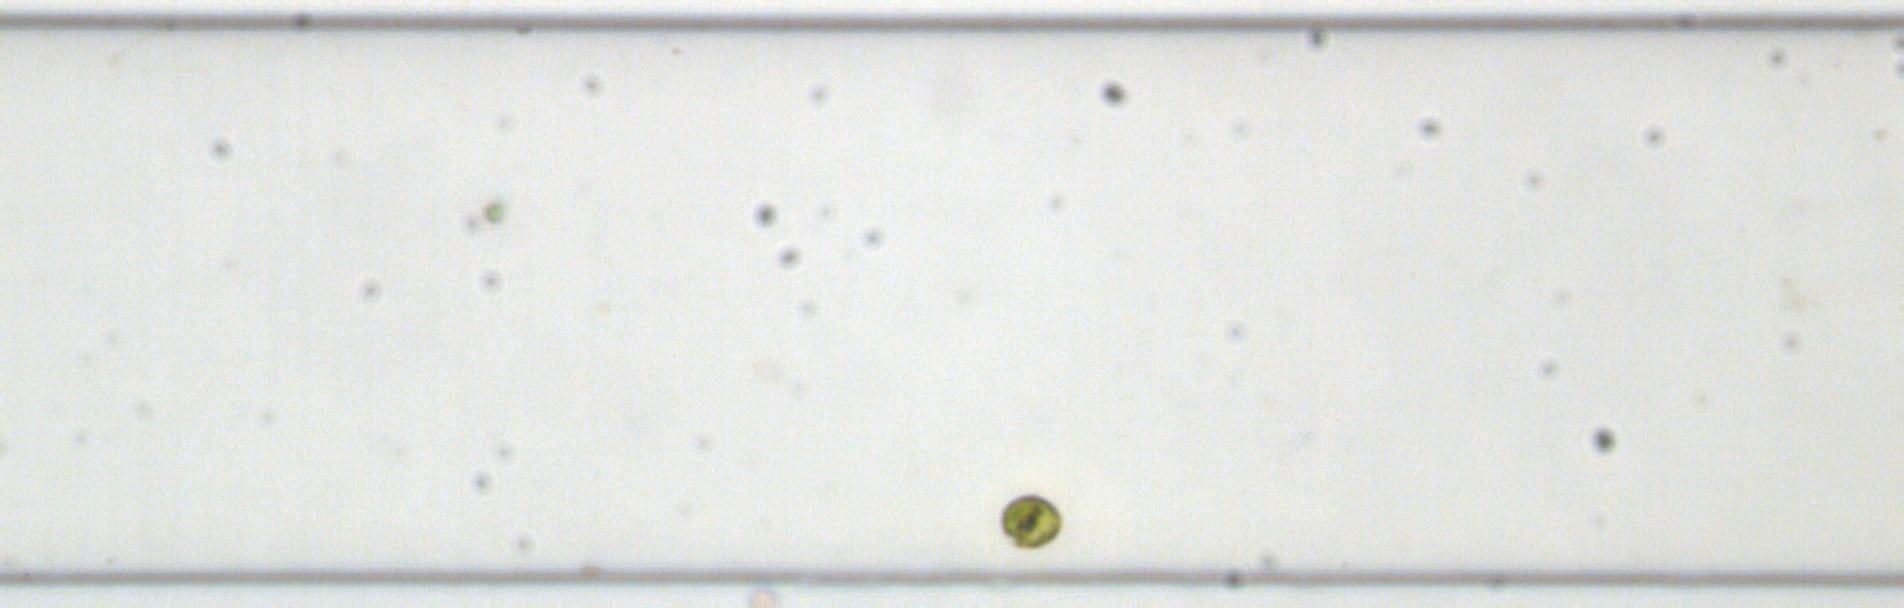Chlorella: (482, 200, 503, 221)
Haematococcus: (997, 493, 1061, 549)
